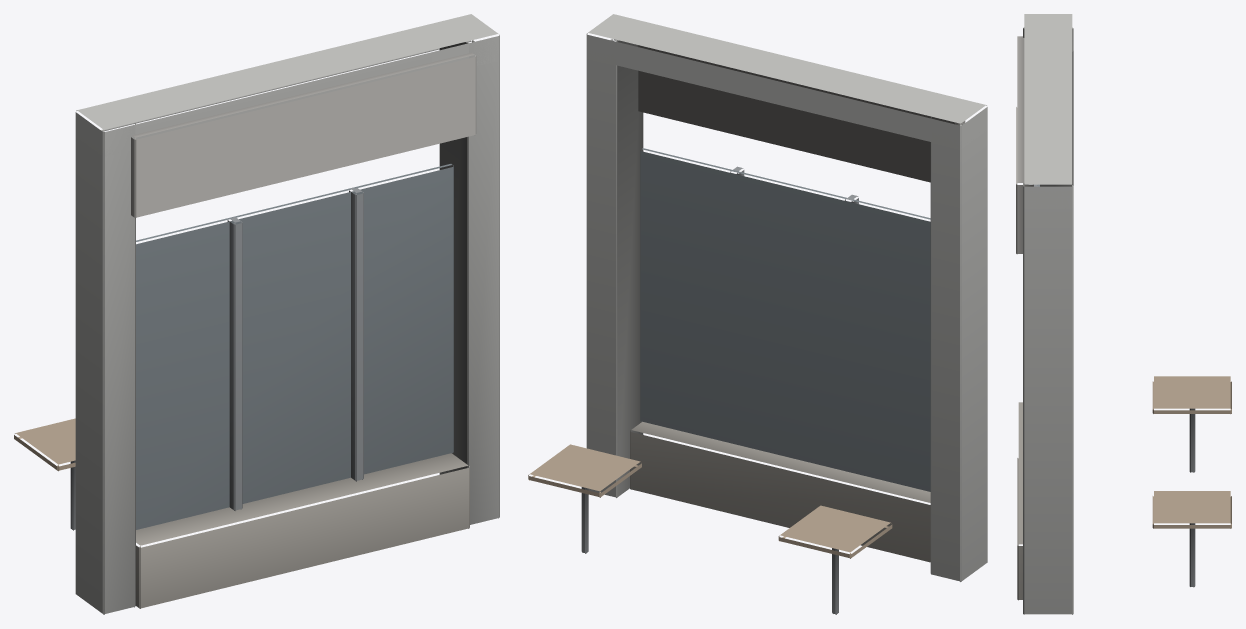
File: ground_cafe.glb
3 views of the same model, side by side, from view 1: azimuth 30°, elevation 25°; view 2: azimuth 150°, elevation 25°; view 3: azimuth 270°, elevation 25° (orthographic). The views are drawn at different scales.
Parts seen in each view (by area): view 1: facade_ground_cafe; view 2: facade_ground_cafe; view 3: facade_ground_cafe.
Part boxes in pixels (<box>): facade_ground_cafe: <box>14,14,499,614</box>; facade_ground_cafe: <box>528,14,987,614</box>; facade_ground_cafe: <box>1016,14,1231,614</box>.
Bounding box in the file's own units: 3.6 × 4.2 × 1.91.
